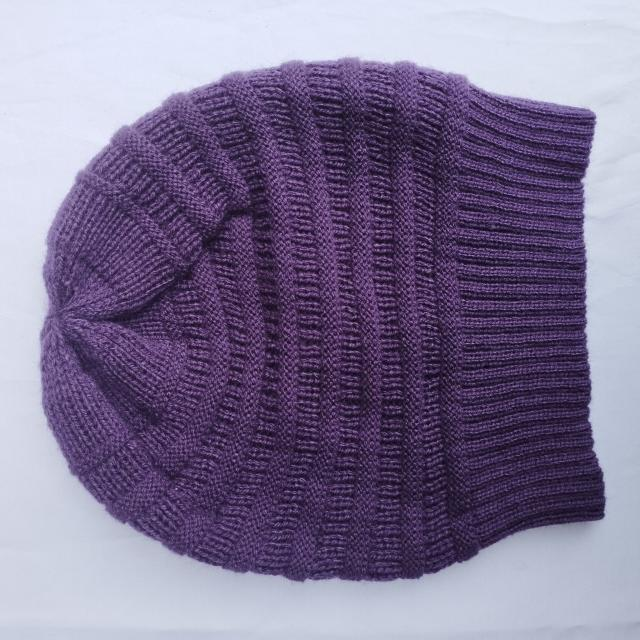Gorro: (39, 56, 606, 582)
